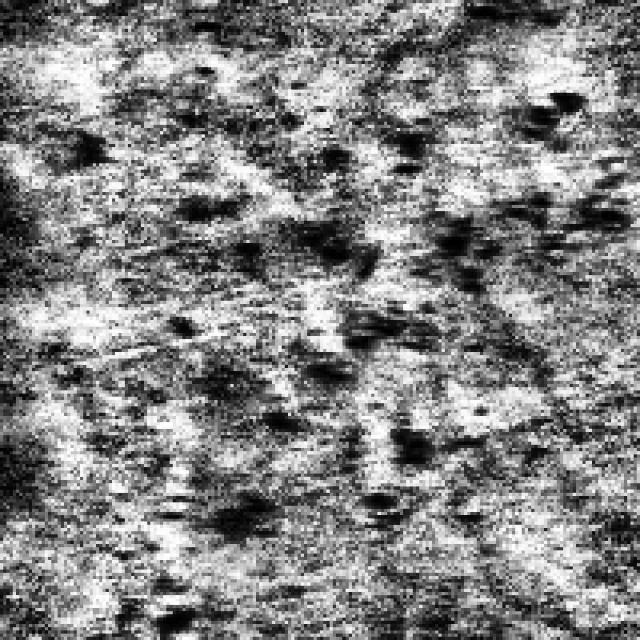Crazing: (198, 186, 614, 544)
